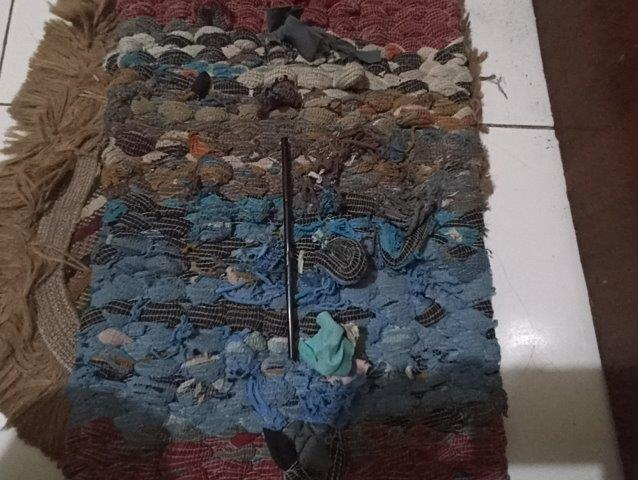sedotan: (281, 138, 297, 361)
